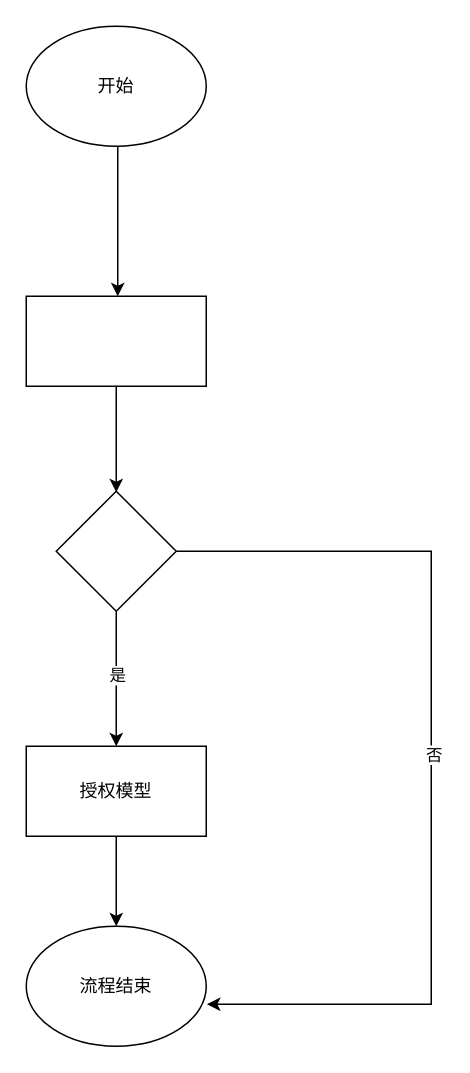
Image size: 470x1073. Some labels were removed from this diagram. The box of each missing label's shape, as (x1, y1, x2, y2) in pixels:
是否同意: (55, 490, 176, 611)
申请模型: (25, 295, 206, 386)
